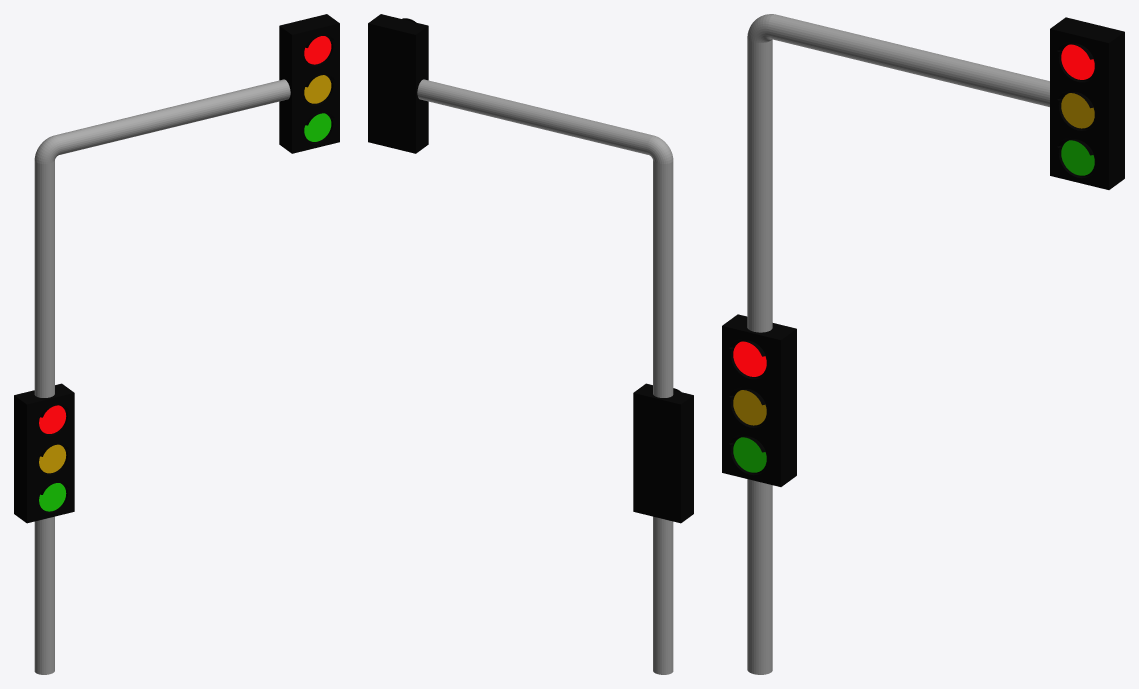
The model's file is circle.030_lev3.glb.
The picture shows the model from 3 angles, left to right: view 1: azimuth 30°, elevation 25°; view 2: azimuth 150°, elevation 25°; view 3: azimuth 330°, elevation 25°; orthographic projection. The views are drawn at different scales.
Parts seen in each view (by area): view 1: circle.030_lev3; view 2: circle.030_lev3; view 3: circle.030_lev3.
Part boxes in pixels (left/top/right/bottom): circle.030_lev3: left=14, top=14, right=339, bottom=674; circle.030_lev3: left=368, top=14, right=693, bottom=674; circle.030_lev3: left=722, top=14, right=1124, bottom=674.
Bounding box in the file's own units: 1.39 × 2.47 × 0.1328.
